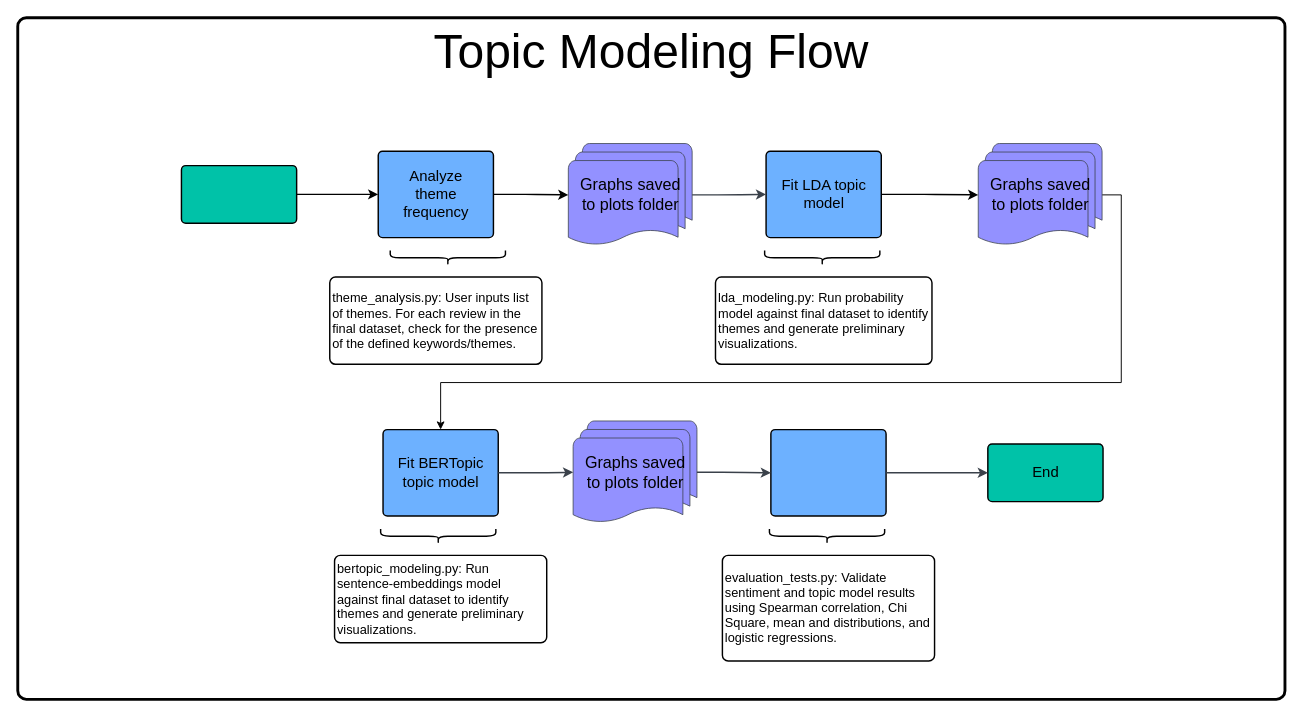
Image size: 1303x717. Some labels were removed from this diagram. The centre of each missing label's shape, as x and y in pixels:
Run statistical evaluations: the point at 828,472
Start: the point at 238,193
